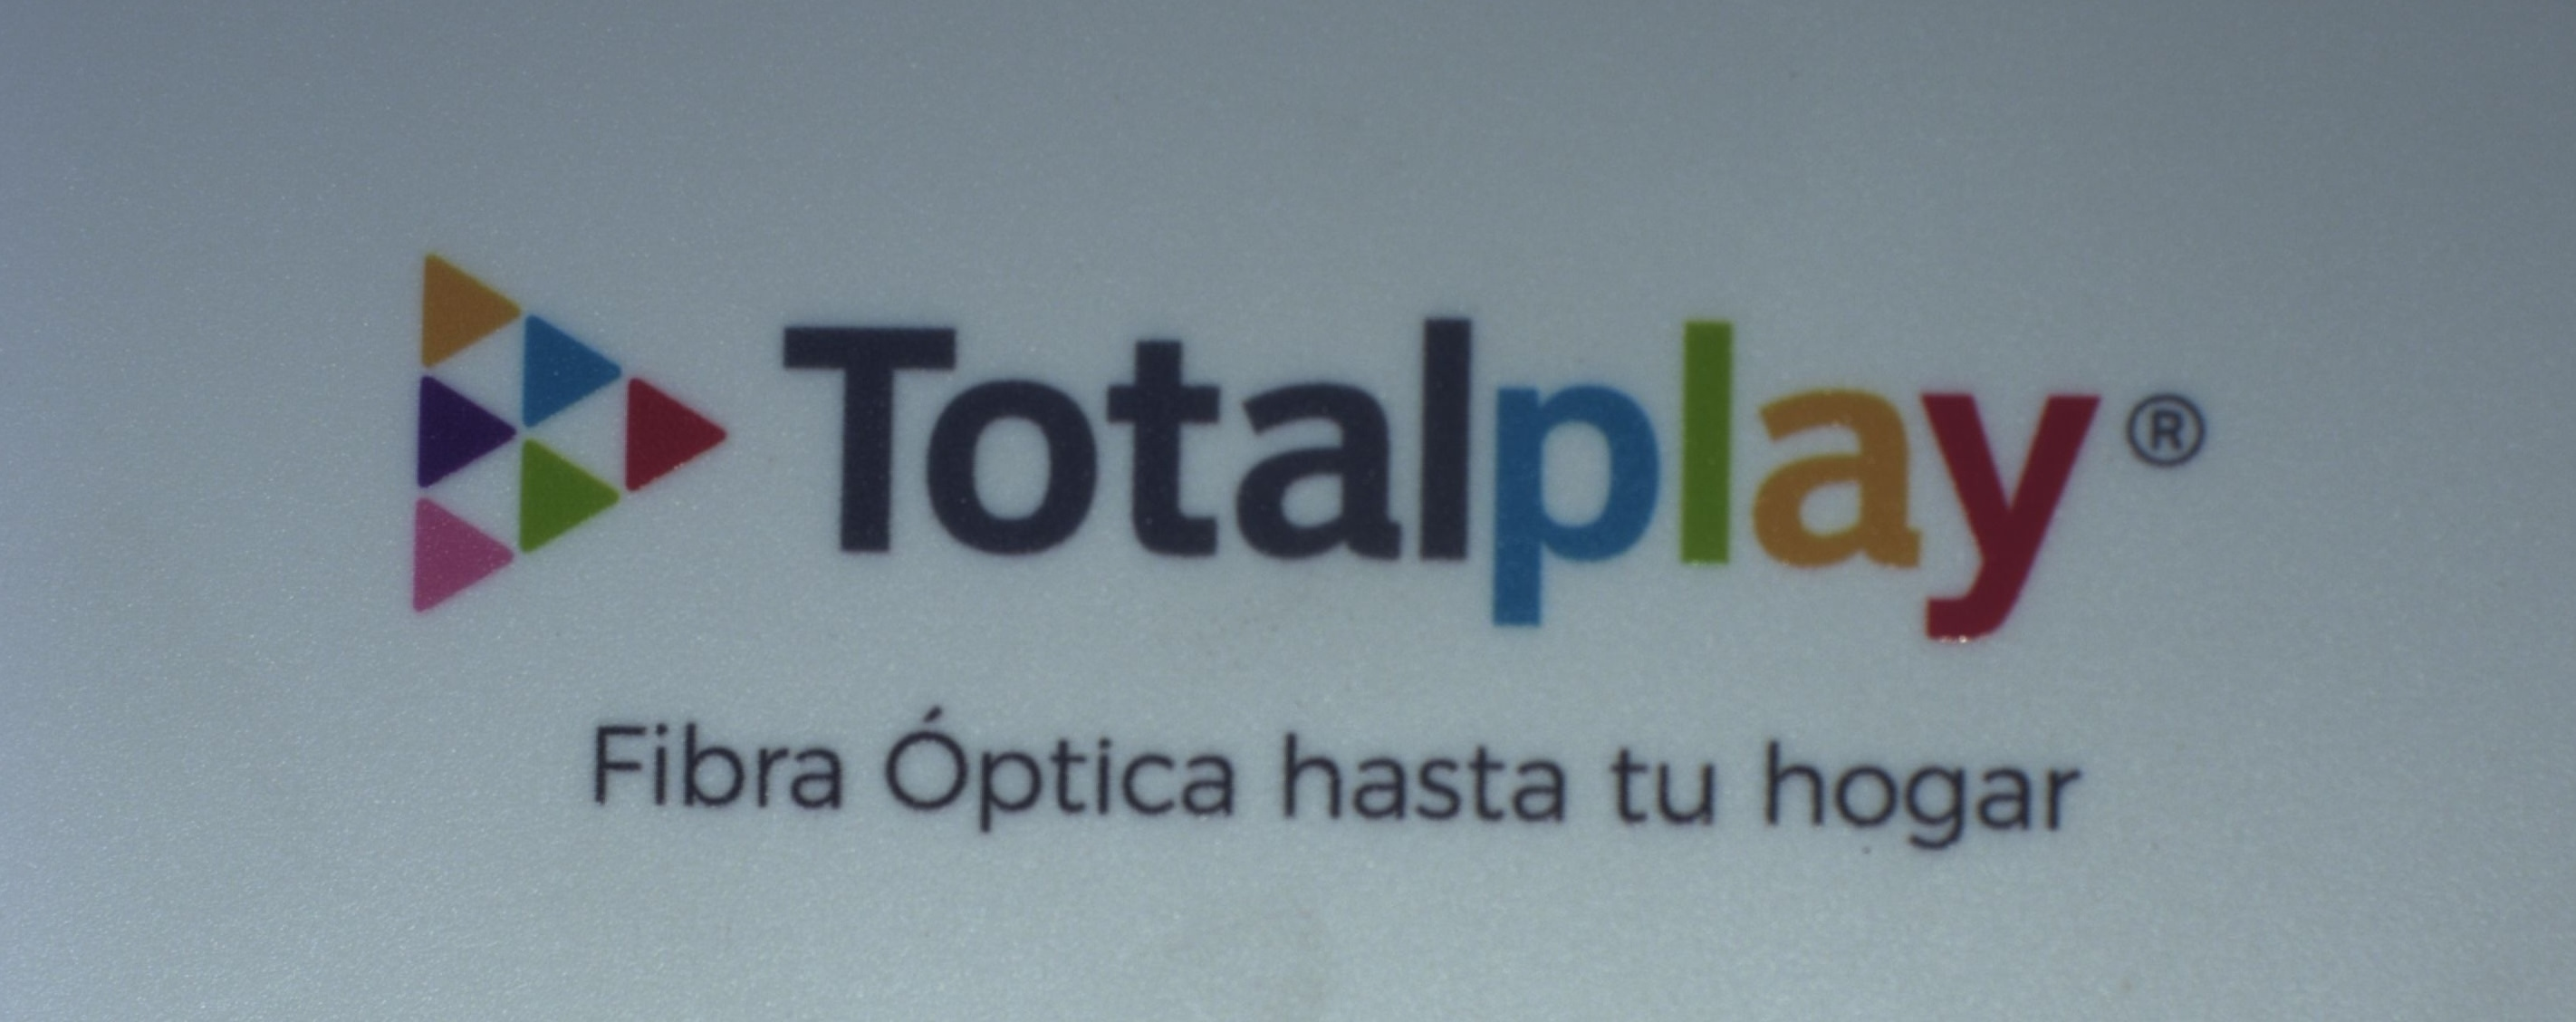BP_TotalPlay: (383, 222, 2218, 859)
